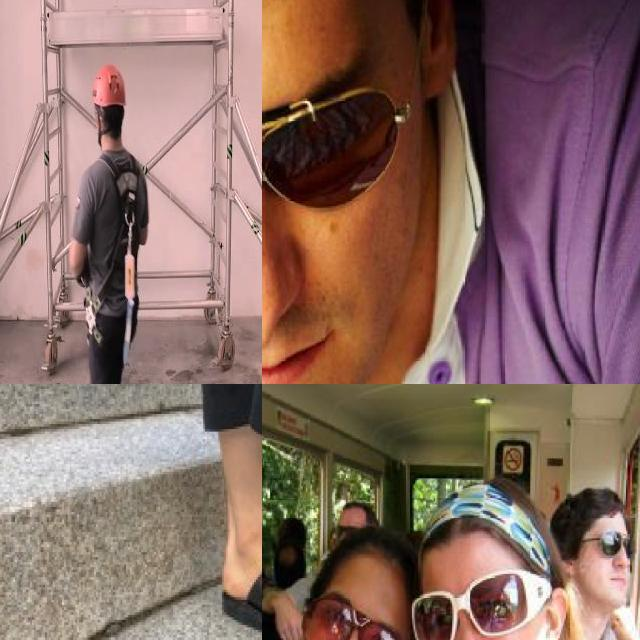Harness: (102, 156, 138, 360)
No_Ear-Protection: (540, 585, 573, 640)
Sandals: (218, 547, 262, 640)
face_nomask: (262, 93, 412, 384), (412, 576, 540, 640), (303, 594, 394, 640), (597, 525, 640, 599)
glasses: (262, 0, 444, 255), (411, 573, 540, 640), (299, 587, 405, 640), (588, 530, 638, 558)
hand_noglove: (271, 593, 305, 640)
head_nohelmet: (414, 485, 538, 564), (318, 524, 405, 585), (552, 482, 628, 527), (336, 496, 376, 526)
person: (386, 484, 640, 640), (531, 482, 640, 640)
